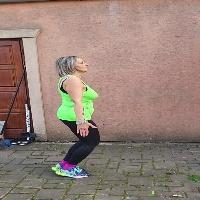jumping_jacks: (41, 47, 114, 184)
